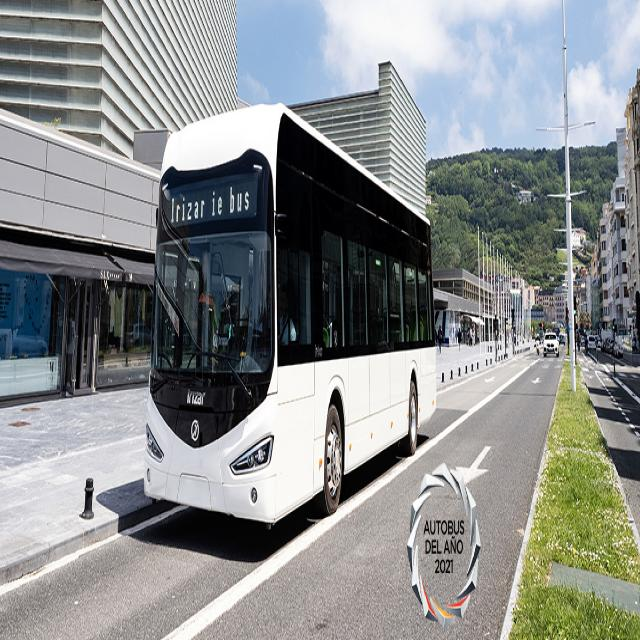Bus: (144, 103, 436, 523)
